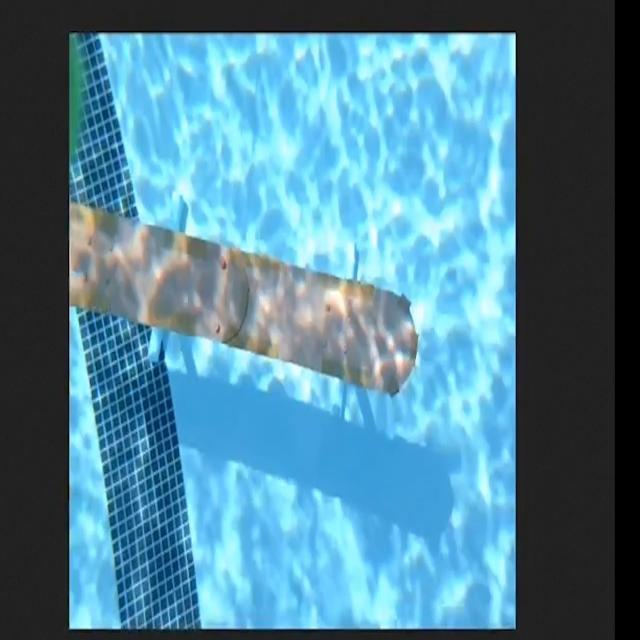Path: (69, 197, 417, 399)
